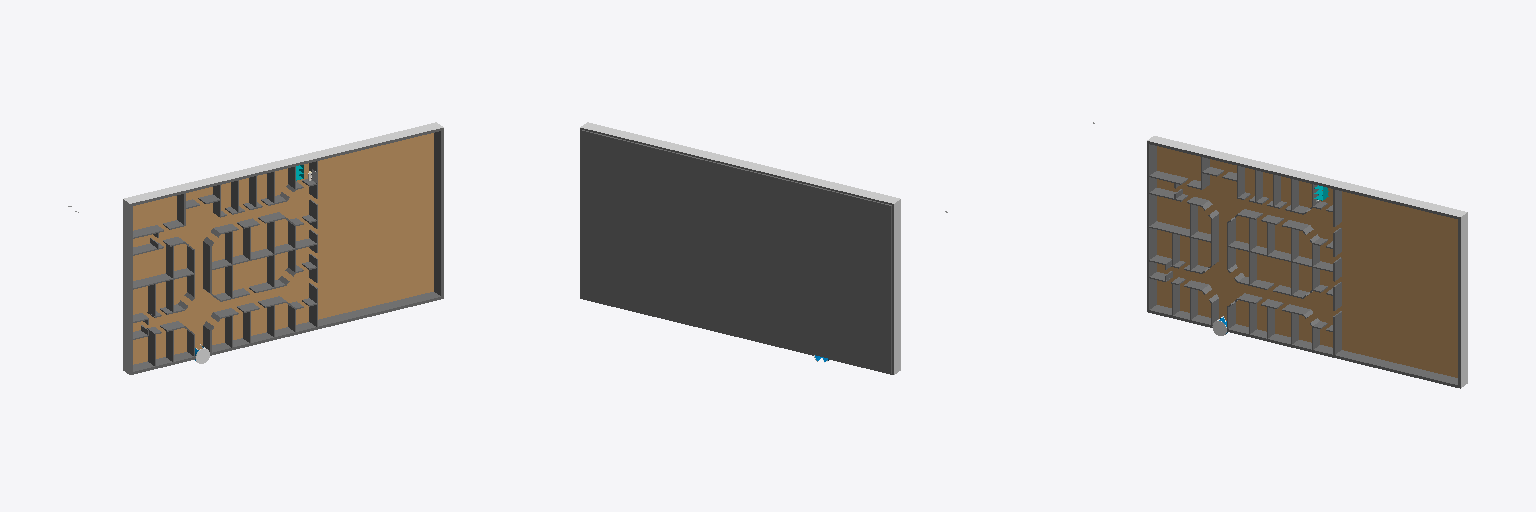
File: mallex3.obj
3 renders of one model, left to right at view 1: azimuth 30°, elevation 25°; view 2: azimuth 150°, elevation 25°; view 3: azimuth 330°, elevation 25°, orthographic.
Visible parts, largest first — view 1: Wood Joist 10" - Wood Finish, Generic - 8", Exterior - CMU on Mtl. Stud; view 2: Wood Joist 10" - Wood Finish, Exterior - CMU on Mtl. Stud; view 3: Wood Joist 10" - Wood Finish, Generic - 8", Exterior - CMU on Mtl. Stud.
Boxes of the visible parts, box(x1,y1,x2,y2) form: Wood Joist 10" - Wood Finish: box(133, 133, 433, 364); Generic - 8": box(133, 161, 317, 365); Exterior - CMU on Mtl. Stud: box(123, 122, 443, 374); Wood Joist 10" - Wood Finish: box(581, 130, 891, 373); Exterior - CMU on Mtl. Stud: box(580, 122, 900, 374); Wood Joist 10" - Wood Finish: box(1157, 146, 1457, 377); Generic - 8": box(1149, 157, 1341, 354); Exterior - CMU on Mtl. Stud: box(1147, 136, 1467, 388).
Size of the model in its own units: 206 by 97.48 by 9.